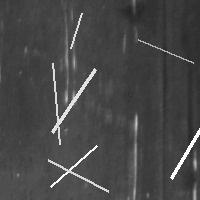scratches: (160, 5, 195, 196), (47, 64, 100, 137), (43, 155, 113, 196), (46, 140, 102, 191), (166, 116, 200, 183), (133, 34, 198, 67), (59, 8, 81, 105), (127, 108, 144, 200), (47, 58, 64, 149), (66, 8, 87, 53)
